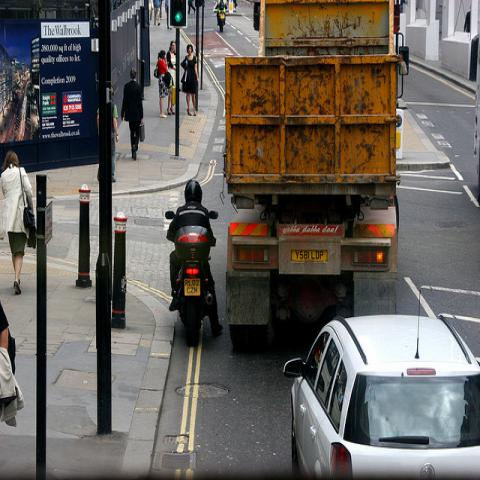car: (284, 315, 480, 479)
motorcycle: (169, 224, 223, 347), (217, 12, 226, 34)
truck: (224, 3, 410, 356)
